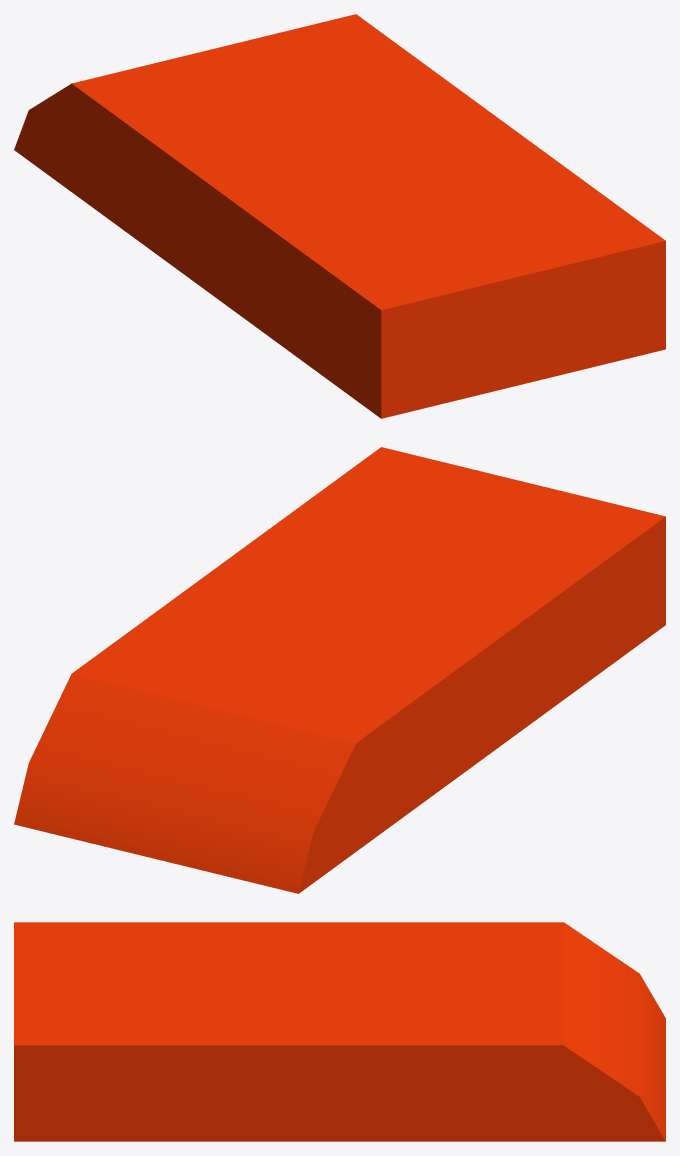
File: Platform_3.FBX
3 views of the same model, one above another, from view 1: azimuth 30°, elevation 25°; view 2: azimuth 150°, elevation 25°; view 3: azimuth 270°, elevation 25° (orthographic). The views are drawn at different scales.
Parts seen in each view (by area): view 1: Box003; view 2: Box003; view 3: Box003.
Boxes of the visible parts, <box> form: Box003: <box>14,14,665,418</box>; Box003: <box>14,447,665,893</box>; Box003: <box>14,922,665,1141</box>.
Bounding box in the file's own units: 40.69 × 14.83 × 90.96.
